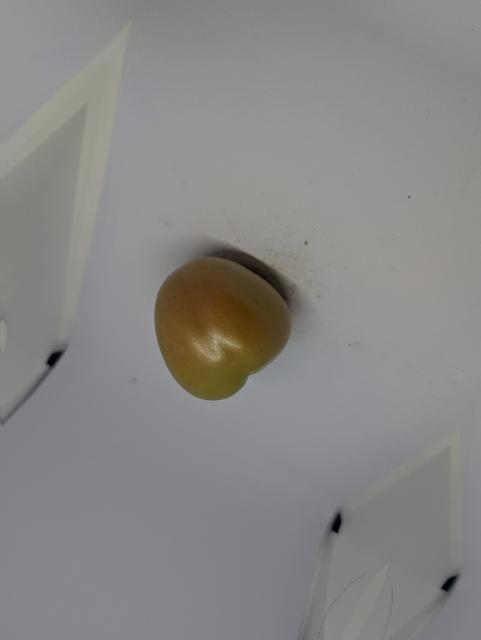turning: (145, 250, 296, 408)
